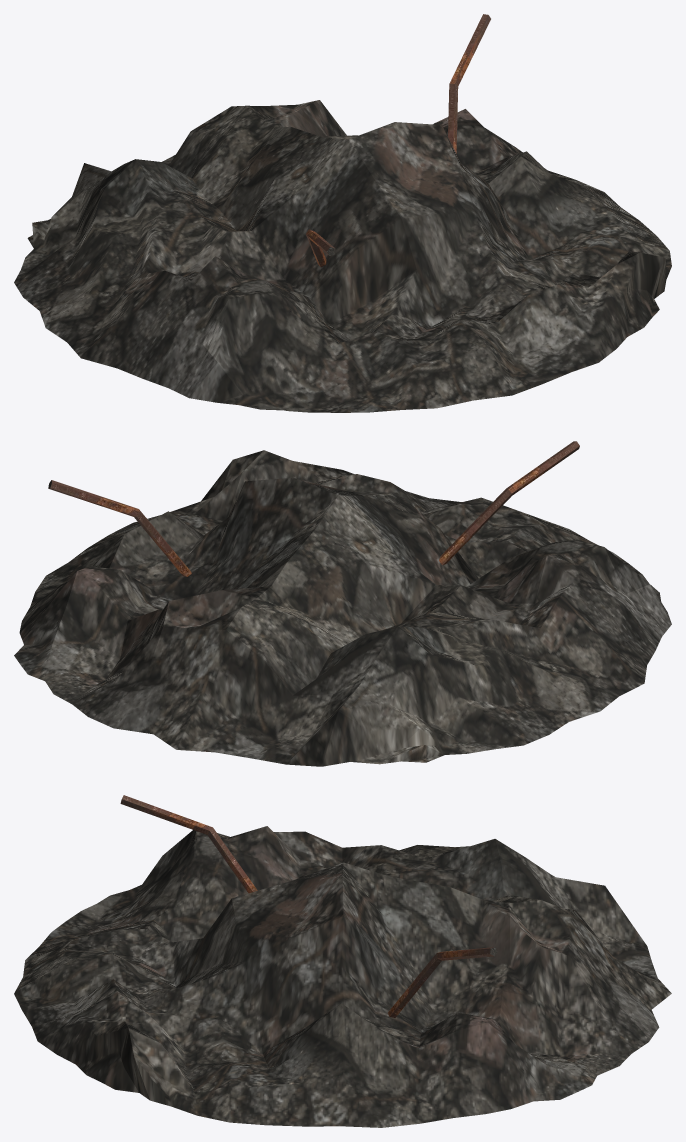
File: Rubble.fbx
The picture shows the model from 3 angles, top to bottom: view 1: azimuth 30°, elevation 25°; view 2: azimuth 150°, elevation 25°; view 3: azimuth 270°, elevation 25°; orthographic projection.
Visible parts, largest first — view 1: Rubble; view 2: Rubble; view 3: Rubble.
Part boxes in pixels (box(x1,y1,x2,y2)): Rubble: box(14, 14, 671, 412); Rubble: box(14, 441, 671, 766); Rubble: box(14, 795, 671, 1127).
Size of the model in its own units: 216 by 57.48 by 220.
Materials: 1 (1 with a texture image).
